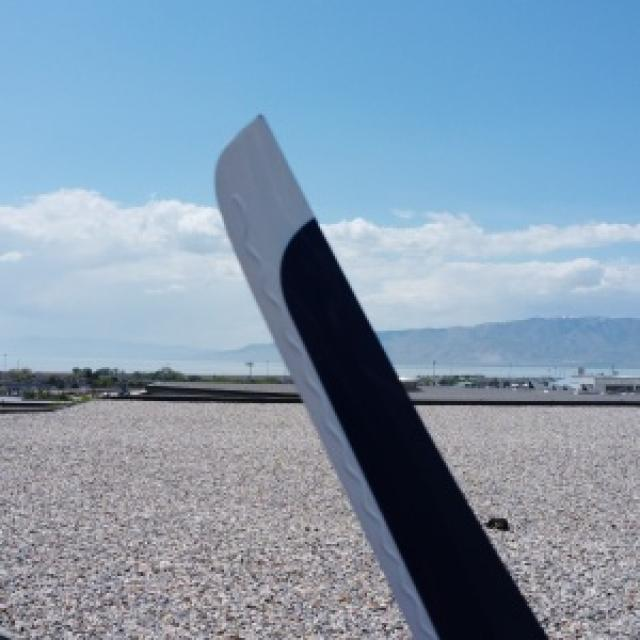healthy: (215, 115, 544, 638)
